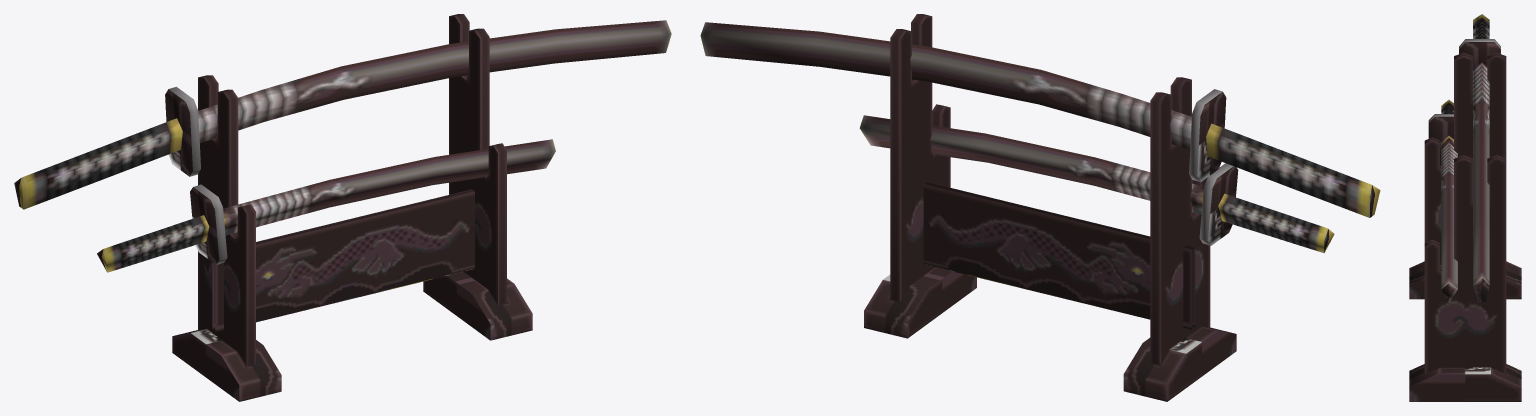
Rendered from int_jpn_swordB.dae.
The picture shows the model from 3 angles, left to right: view 1: azimuth 30°, elevation 25°; view 2: azimuth 150°, elevation 25°; view 3: azimuth 270°, elevation 25°; orthographic projection. The views are drawn at different scales.
Parts seen in each view (by area): view 1: int_jpn_swordB; view 2: int_jpn_swordB; view 3: int_jpn_swordB.
Boxes of the visible parts, x1,y1,x2,y2 form: int_jpn_swordB: [14, 14, 671, 401]; int_jpn_swordB: [700, 14, 1380, 401]; int_jpn_swordB: [1409, 14, 1521, 401].
Bounding box in the file's own units: 49 × 20.4 × 8.8.
1 material, 1 textured.
